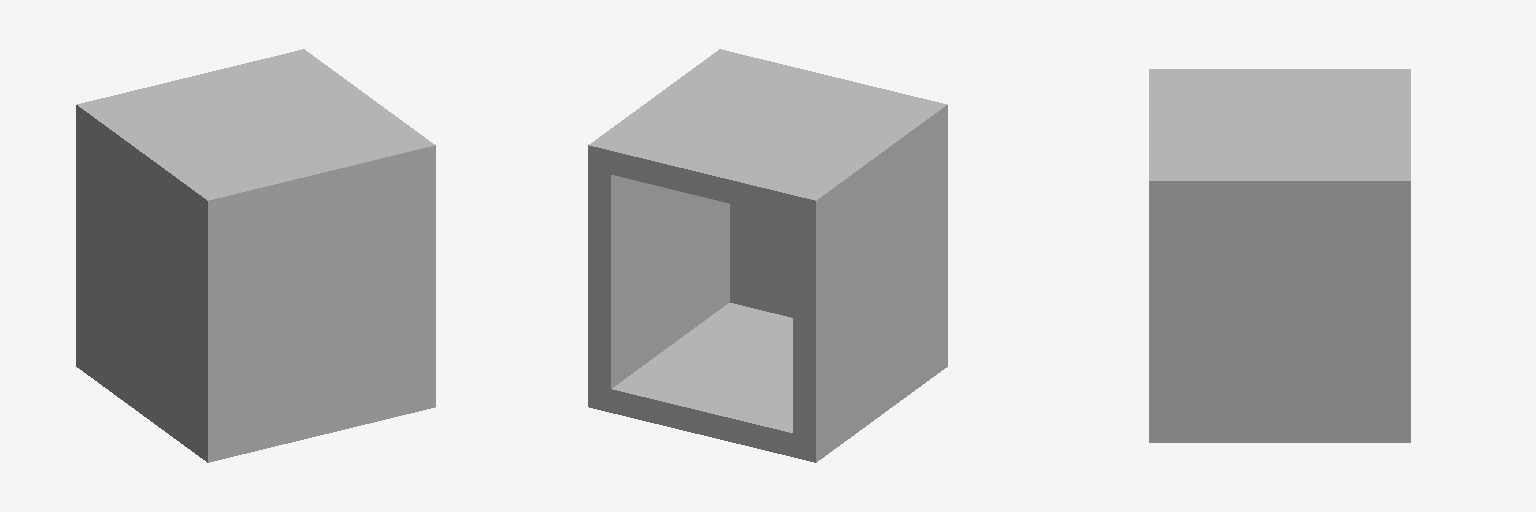
The model's file is wallSet_14.obj.
3 renders of one model, left to right at view 1: azimuth 30°, elevation 25°; view 2: azimuth 150°, elevation 25°; view 3: azimuth 270°, elevation 25°, orthographic.
Visible parts, largest first — view 1: wallSet_14_Cube.024; view 2: wallSet_14_Cube.024; view 3: wallSet_14_Cube.024.
Boxes of the visible parts, x1=… form: wallSet_14_Cube.024: x1=76, y1=49, x2=435, y2=462; wallSet_14_Cube.024: x1=588, y1=49, x2=947, y2=462; wallSet_14_Cube.024: x1=1149, y1=69, x2=1410, y2=442.
Bounding box in the file's own units: 2 × 2.2 × 2.